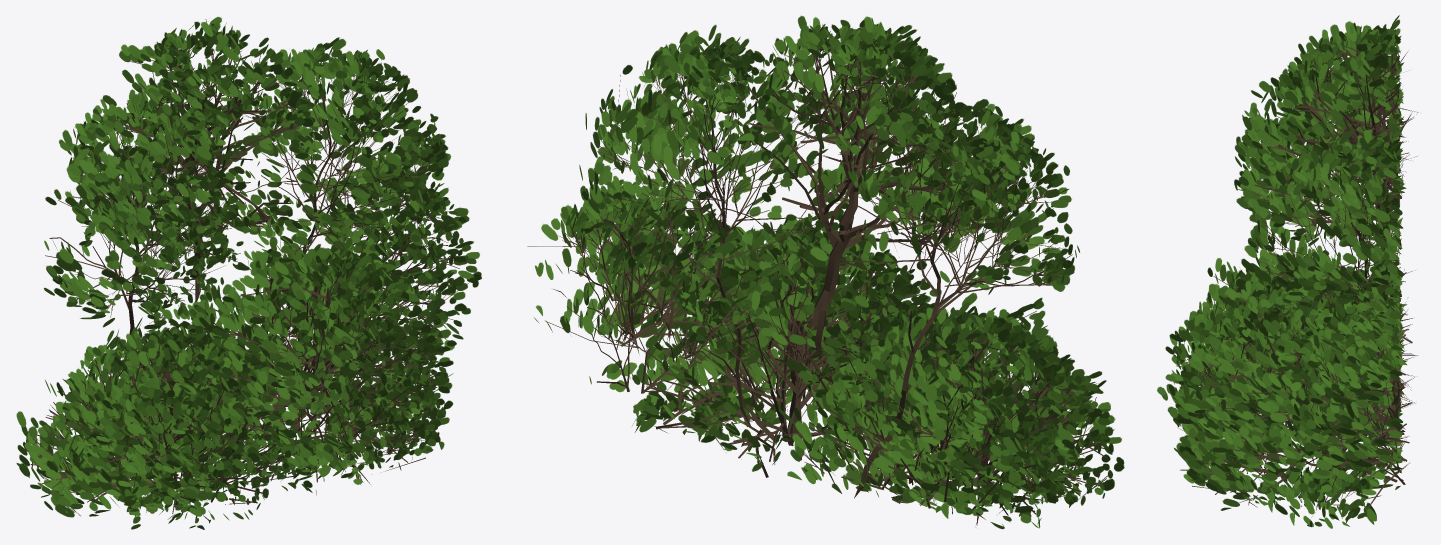
The picture shows the model from 3 angles, left to right: view 1: azimuth 30°, elevation 25°; view 2: azimuth 150°, elevation 25°; view 3: azimuth 270°, elevation 25°; orthographic projection. The views are drawn at different scales.
Visible parts, largest first — view 1: oak 01.001_trunk_Mat.001_0.230; view 2: oak 01.001_trunk_Mat.001_0.230; view 3: oak 01.001_trunk_Mat.001_0.230.
Boxes of the visible parts, <box> form: oak 01.001_trunk_Mat.001_0.230: <box>16,16,481,529</box>; oak 01.001_trunk_Mat.001_0.230: <box>527,15,1124,529</box>; oak 01.001_trunk_Mat.001_0.230: <box>1157,15,1418,528</box>.
Size of the model in its own units: 4.06 by 3.56 by 2.07.
2 materials, 1 textured.
